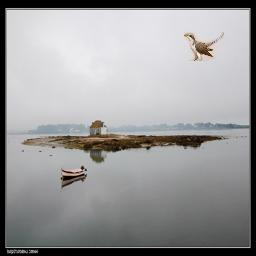Cuckoo: (184, 32, 224, 61)
